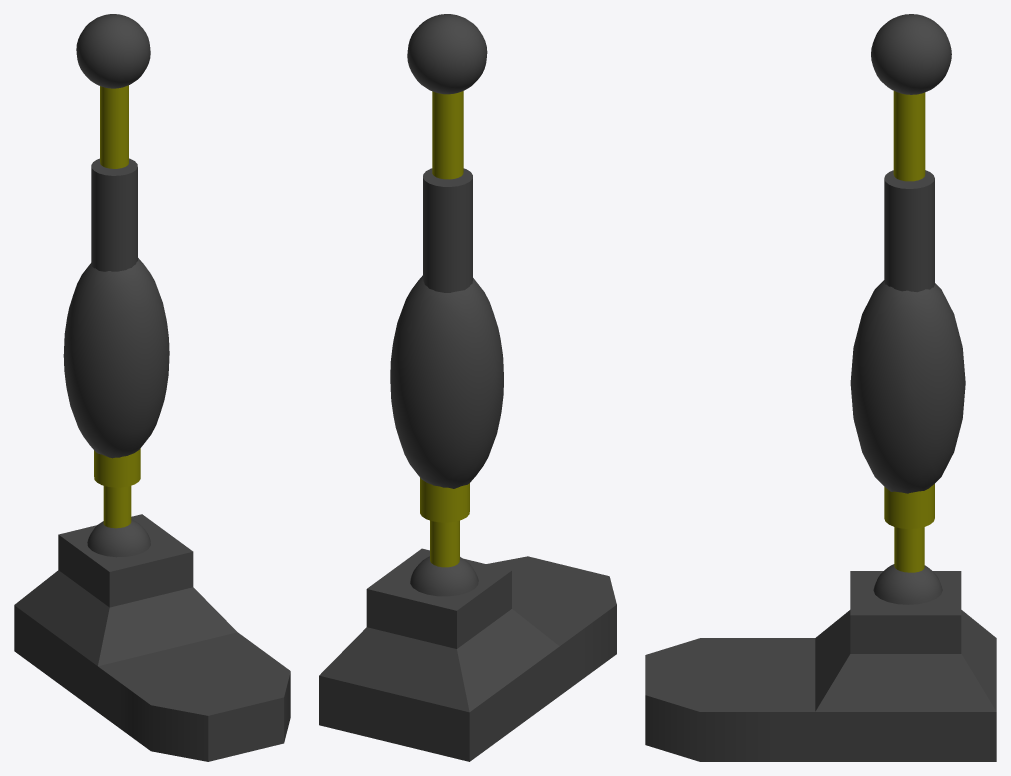
File: ChedLeftLeg.fbx
3 views of the same model, side by side, from view 1: azimuth 30°, elevation 25°; view 2: azimuth 150°, elevation 25°; view 3: azimuth 270°, elevation 25° (orthographic). The views are drawn at different scales.
Parts seen in each view (by area): view 1: ChedLeftLeg; view 2: ChedLeftLeg; view 3: ChedLeftLeg.
Boxes of the visible parts, x1,y1,x2,y2 form: ChedLeftLeg: [14, 14, 290, 761]; ChedLeftLeg: [319, 14, 616, 761]; ChedLeftLeg: [645, 14, 996, 761].
Bounding box in the file's own units: 0.4282 × 1.9 × 0.8593.
